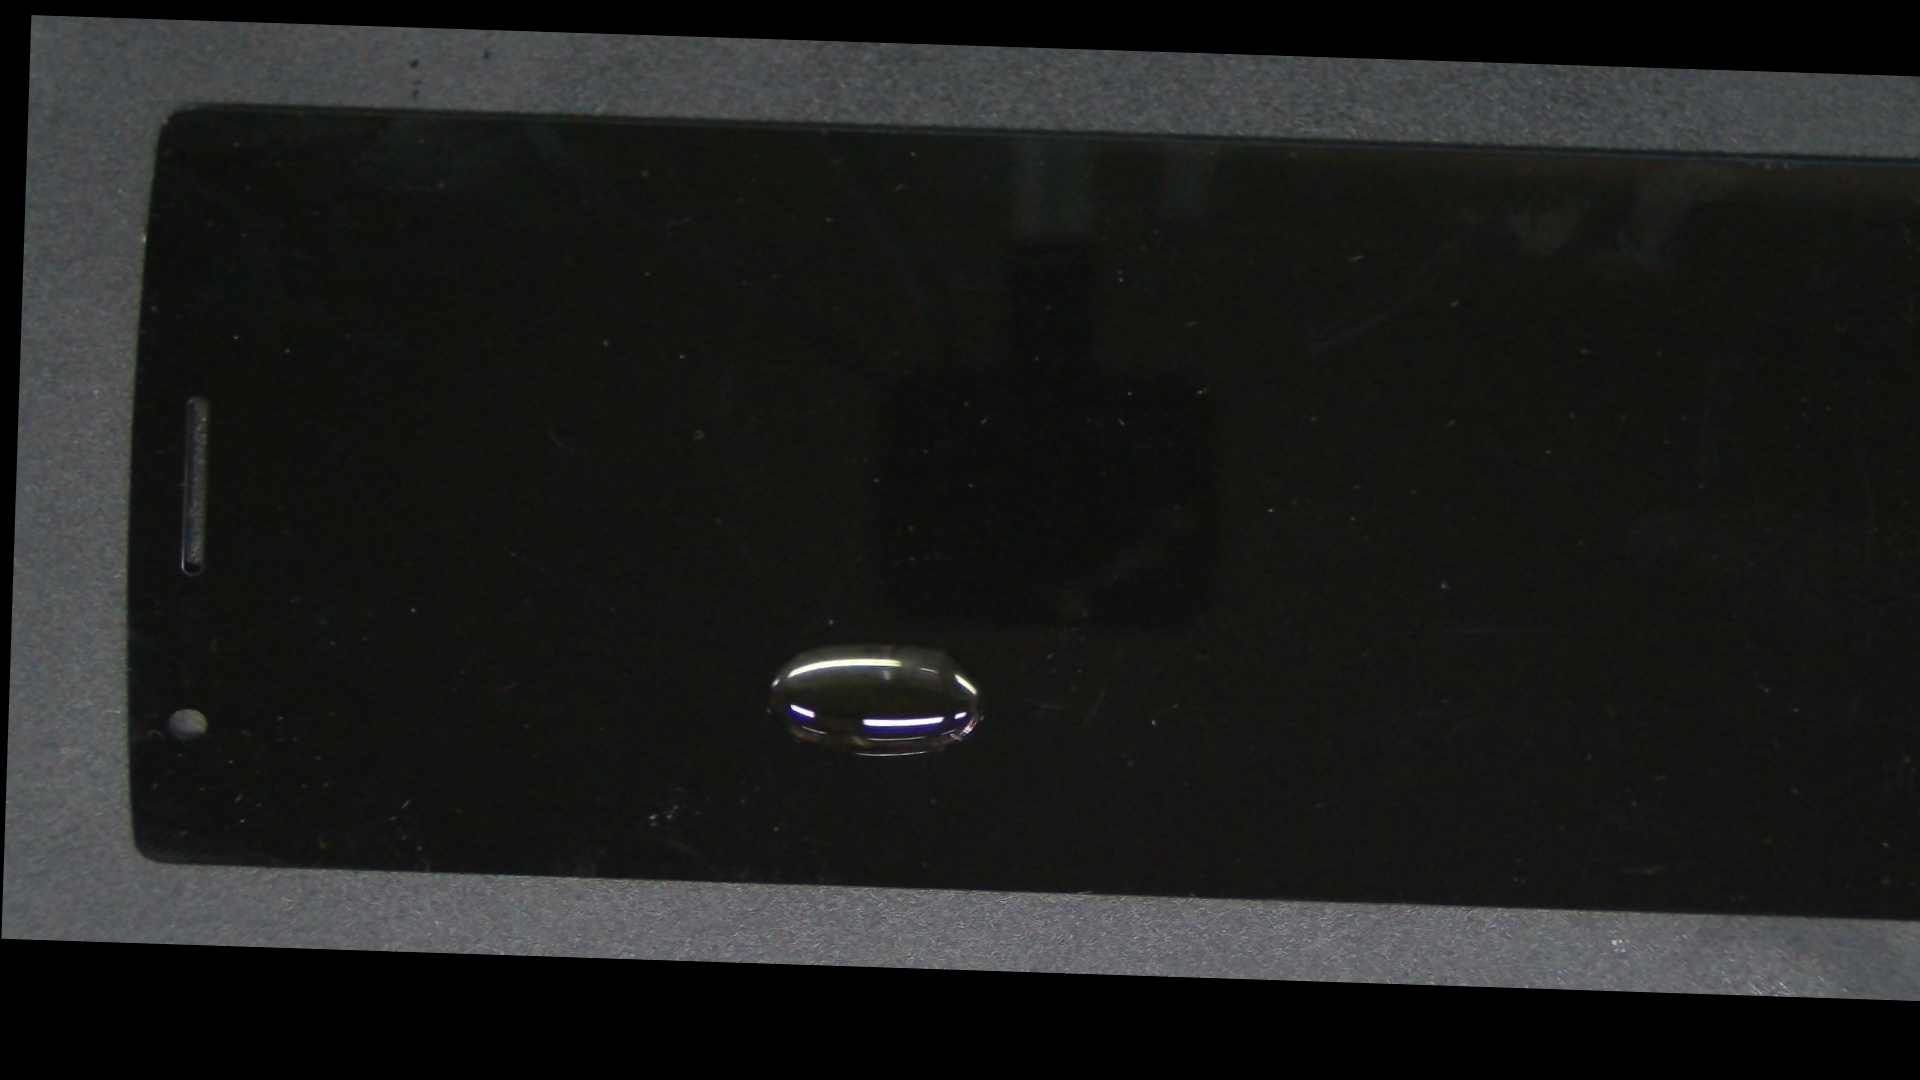oil: (442, 330, 1340, 959)
